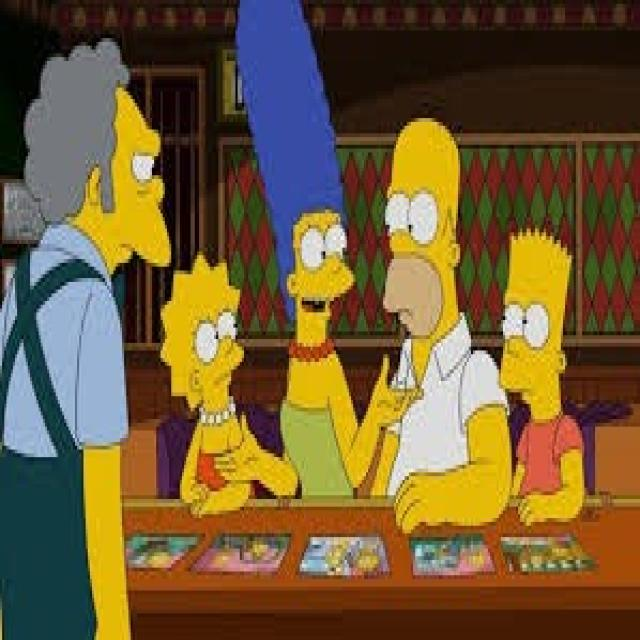Bart Simpson: (493, 223, 577, 440)
Homer Simpson: (376, 101, 468, 371)
Lisa Simpson: (155, 248, 247, 438)
Marge Simpson: (231, 0, 359, 373)
